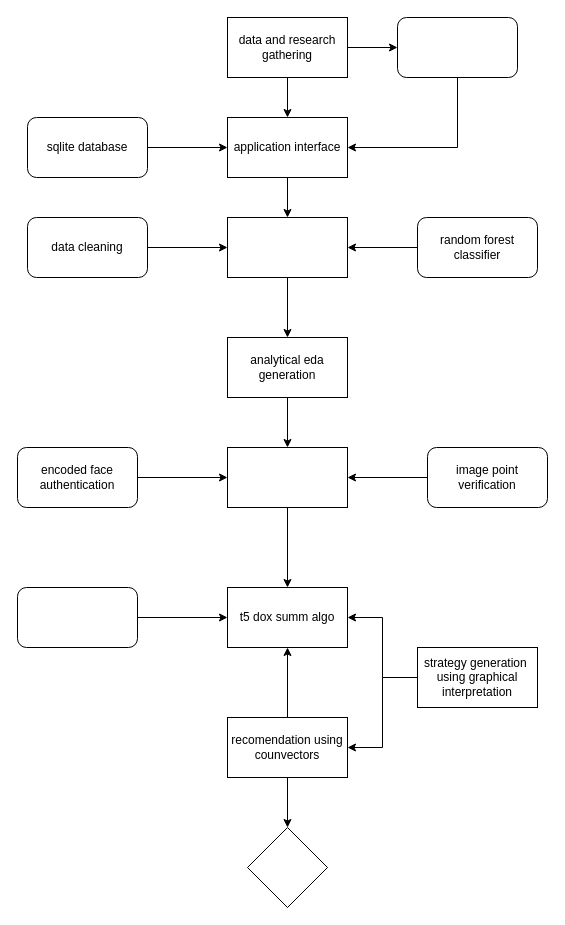
Some shapes in this 565 by 925 pixel diagram are drawn without their labels. The centre of each missing label's shape, as x and y in pixels:
attendance algo: (287,477)
deployment using streamlit: (287,867)
natural language toolkit: (77,617)
profile generation using authentication: (457,47)
student personality prediction: (287,247)
